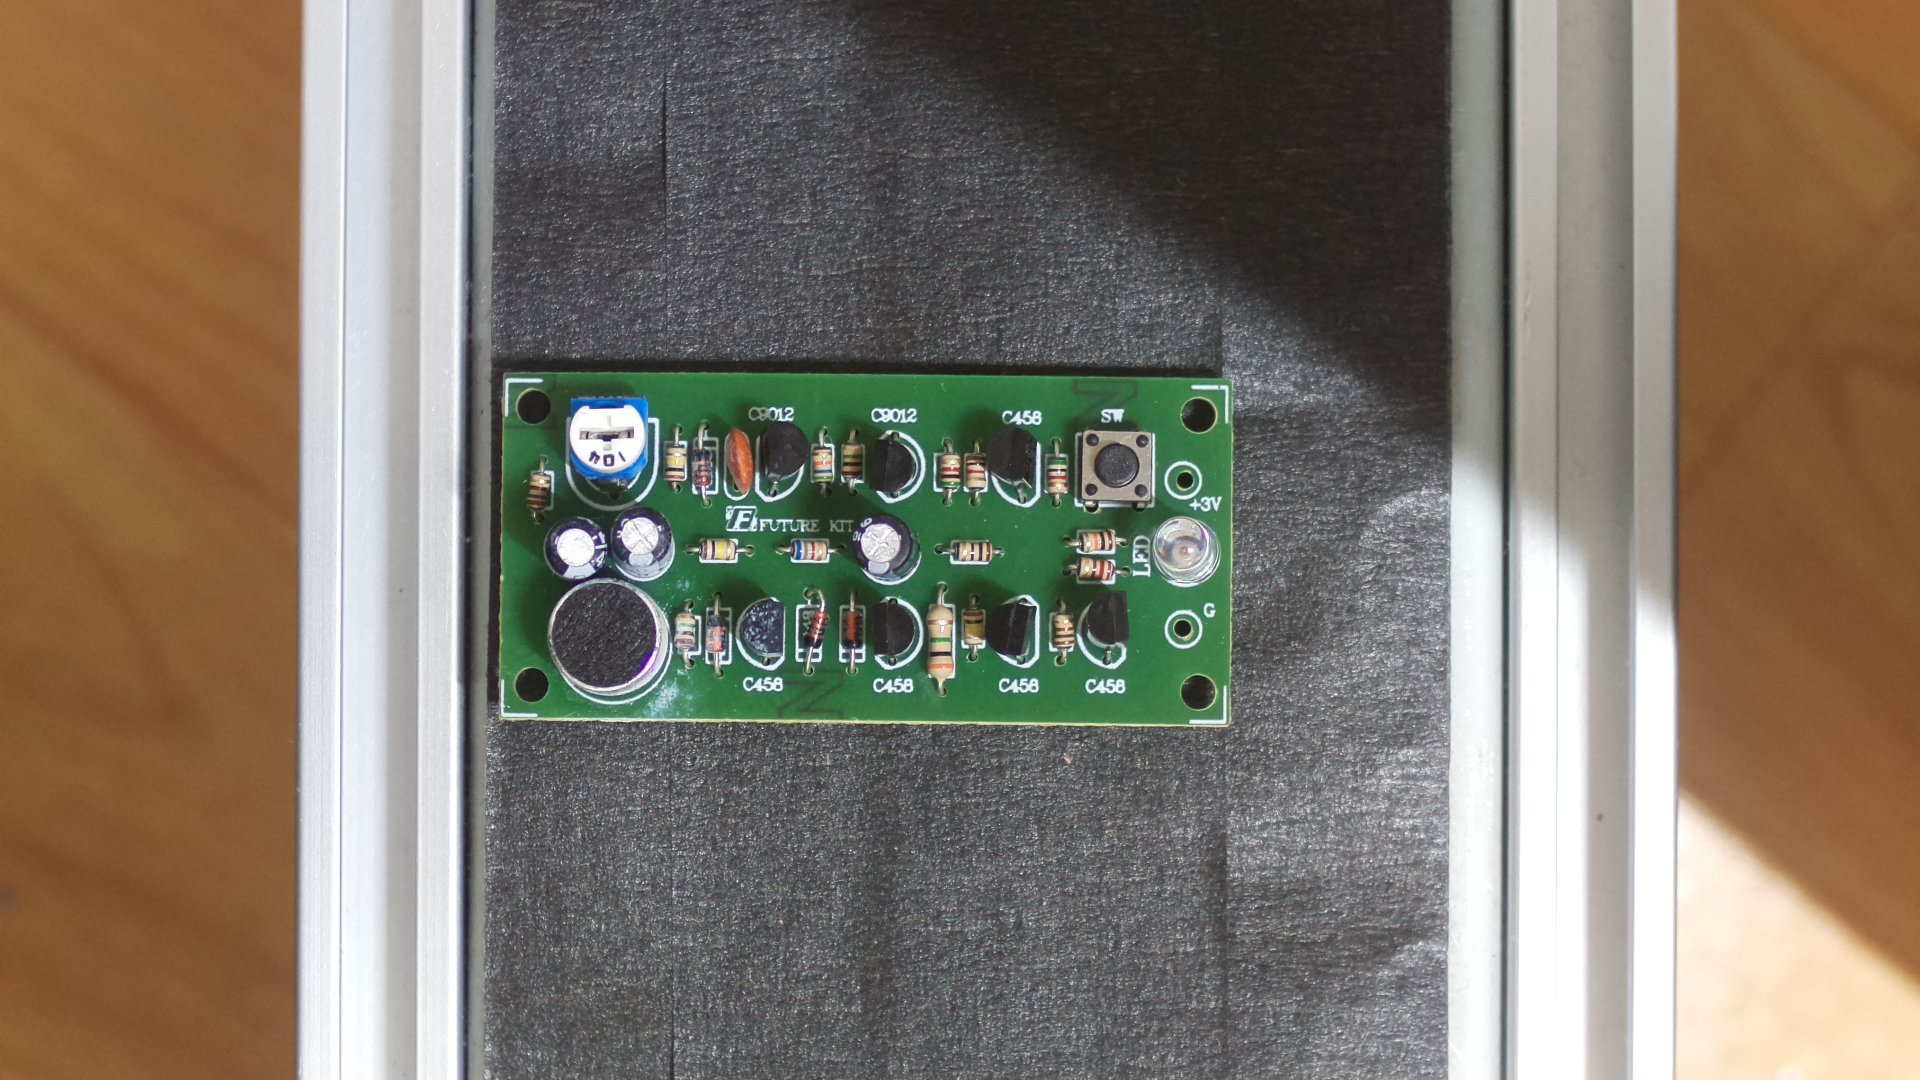A_Normal: (495, 371, 1236, 737)
